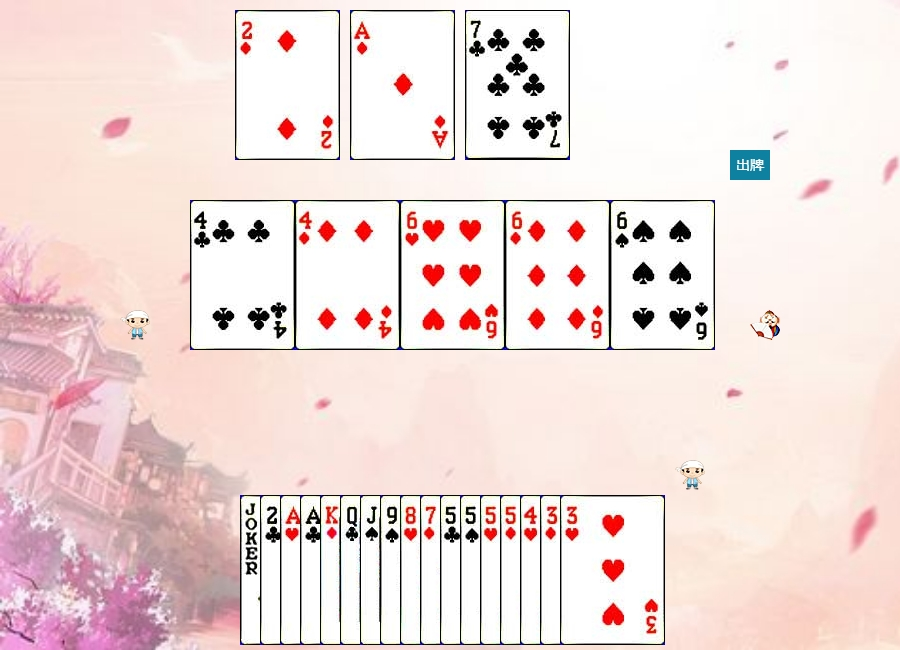11~4: (360, 495, 465, 645)
12~2: (340, 495, 445, 645)
13~1: (320, 495, 425, 645)
14~1: (350, 10, 455, 160)
14~2: (300, 495, 405, 645)
14~3: (280, 495, 385, 645)
15~1: (235, 10, 340, 160)
15~2: (260, 495, 365, 645)
17~3: (240, 495, 345, 645)
3~1: (540, 495, 645, 645)
3~3: (560, 495, 665, 645)
4~1: (295, 200, 400, 350)
4~2: (190, 200, 295, 350)
4~3: (520, 495, 625, 645)
5~1: (500, 495, 605, 645)
5~2: (440, 495, 545, 645)
5~3: (480, 495, 585, 645)
5~4: (460, 495, 565, 645)
6~1: (505, 200, 610, 350)
6~3: (400, 200, 505, 350)
6~4: (610, 200, 715, 350)
7~1: (420, 495, 525, 645)
7~2: (465, 10, 570, 160)
8~3: (400, 495, 505, 645)
9~4: (380, 495, 485, 645)
